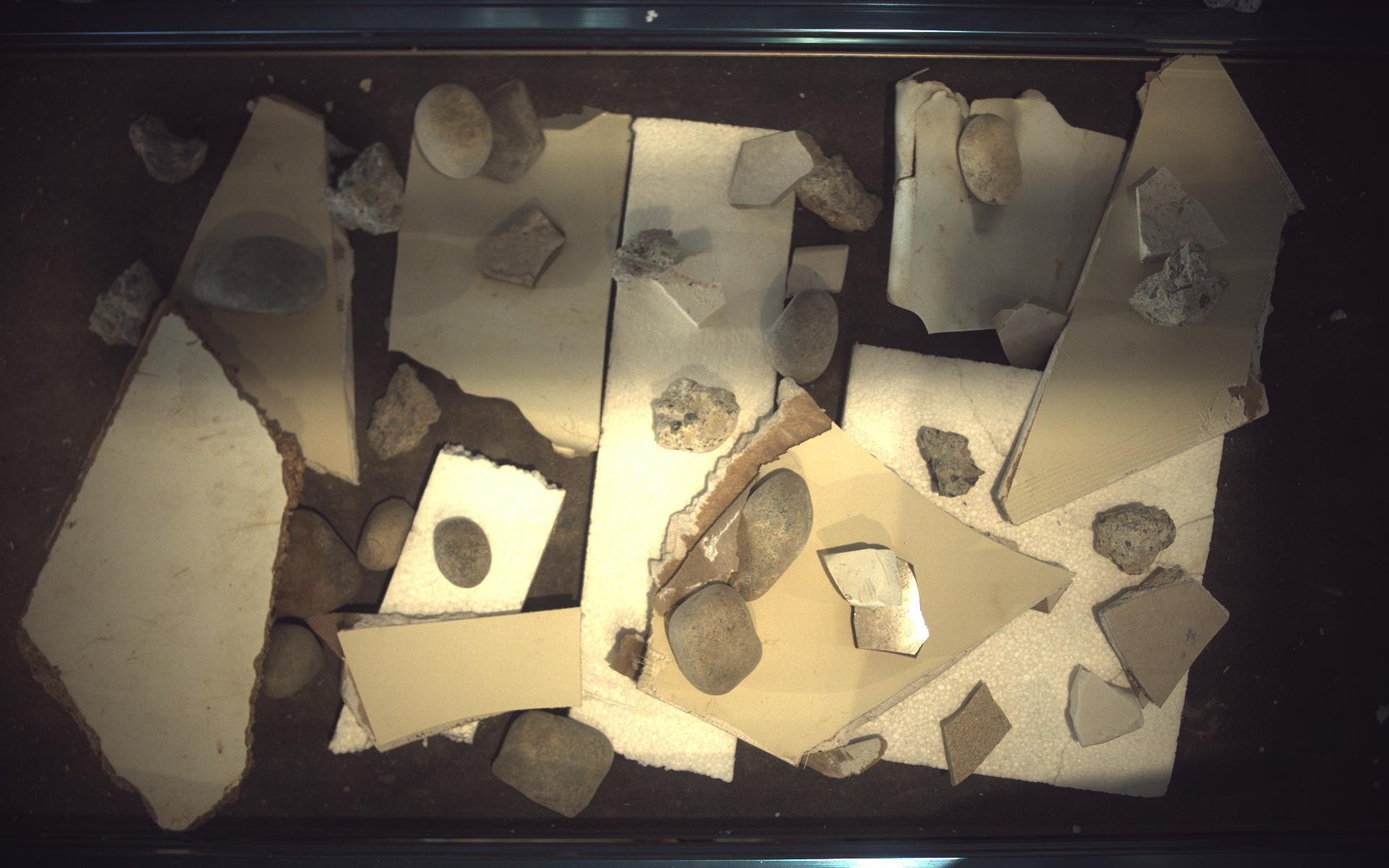concrete: (1131, 234, 1231, 326), (322, 141, 404, 234), (367, 363, 441, 460), (797, 154, 885, 231), (652, 378, 741, 454), (88, 260, 160, 346), (1095, 503, 1178, 576), (128, 114, 207, 183), (919, 427, 985, 498), (613, 229, 681, 281)
foam: (836, 345, 1226, 798), (572, 117, 797, 782), (380, 446, 565, 616), (328, 705, 374, 756), (443, 721, 480, 746)
gypsum_board: (610, 380, 1074, 779), (997, 55, 1304, 524), (388, 108, 631, 456), (170, 95, 358, 483), (307, 608, 582, 753), (1095, 566, 1233, 708)
plastic: (889, 78, 1129, 333)
stone: (493, 712, 615, 819), (731, 469, 815, 603), (667, 584, 764, 697), (192, 234, 326, 313), (274, 509, 363, 619), (415, 82, 493, 178), (767, 289, 839, 383), (481, 78, 546, 182), (961, 112, 1024, 204), (261, 624, 324, 700), (356, 498, 415, 571), (433, 517, 492, 589)
tile: (1138, 166, 1232, 261), (475, 205, 566, 287), (943, 682, 1014, 787), (730, 129, 826, 206), (856, 560, 931, 657), (1069, 665, 1147, 747), (995, 297, 1070, 369), (658, 250, 728, 326), (823, 547, 903, 608), (788, 244, 851, 298)
wood: (20, 301, 303, 832)
